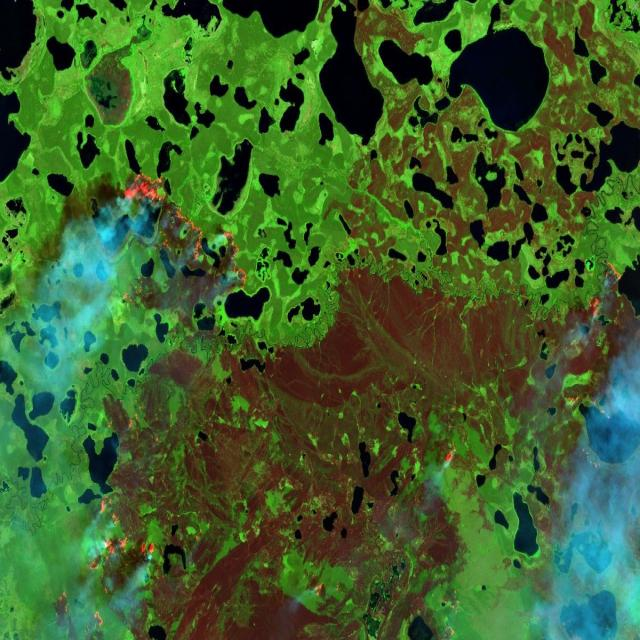fire: (116, 158, 254, 320), (83, 474, 163, 594), (548, 378, 632, 442), (46, 589, 129, 628), (580, 251, 628, 316), (437, 426, 463, 484)
